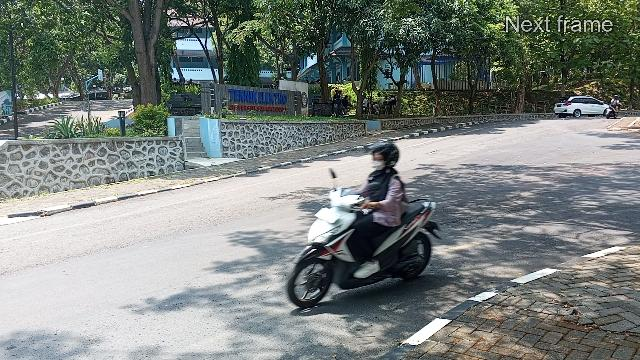helm: (369, 143, 399, 169)
motor: (287, 189, 443, 312)
